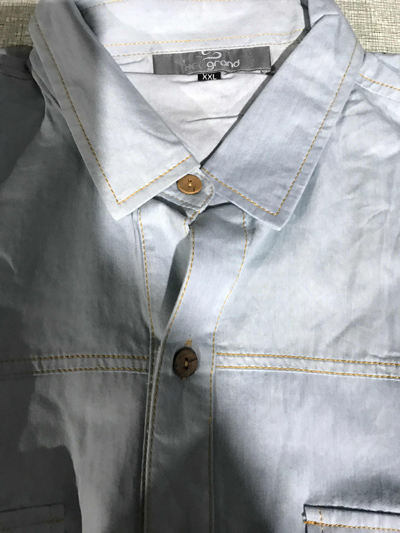shirts: (1, 3, 399, 516)
